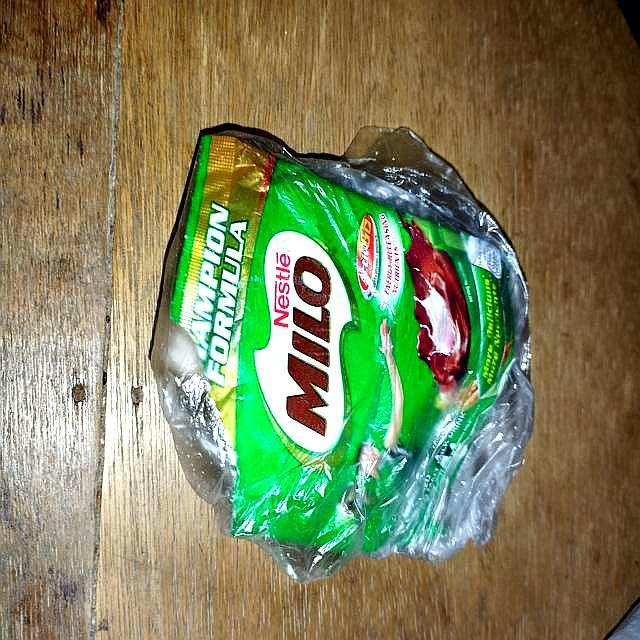Non-biodegradable: (149, 123, 535, 583)
